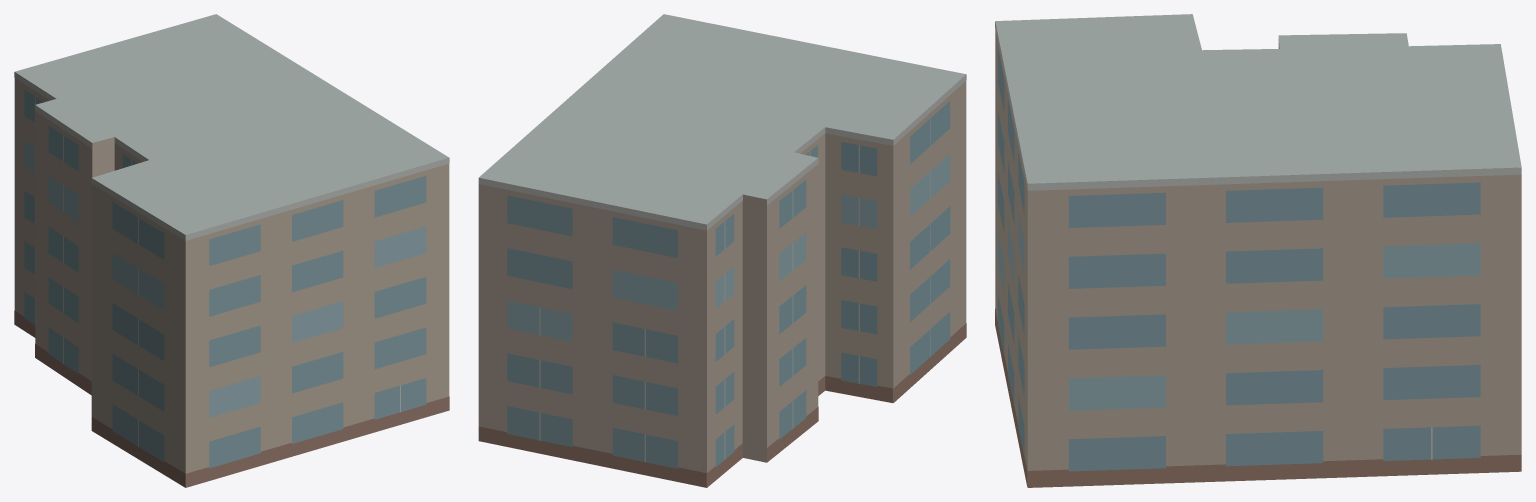
Rendered from survey-upis-32676070.glb.
3 views of the same model, side by side, from view 1: azimuth 30°, elevation 25°; view 2: azimuth 150°, elevation 25°; view 3: azimuth 270°, elevation 25° (orthographic). The views are drawn at different scales.
Parts seen in each view (by area): view 1: survey-upis-32676070.tmp; view 2: survey-upis-32676070.tmp; view 3: survey-upis-32676070.tmp.
Part boxes in pixels (x1,y1,x2,y2): survey-upis-32676070.tmp: (14,14,449,487); survey-upis-32676070.tmp: (478,14,966,487); survey-upis-32676070.tmp: (995,14,1521,487).
Bounding box in the file's own units: 12.58 × 10.5 × 16.49.
